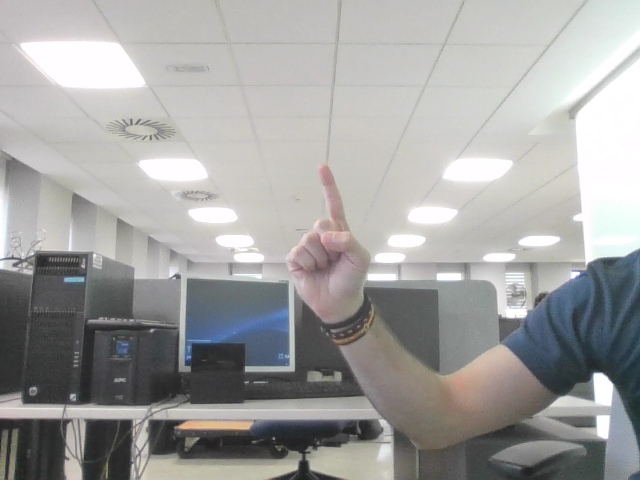1Dedo: (300, 176, 357, 279)
